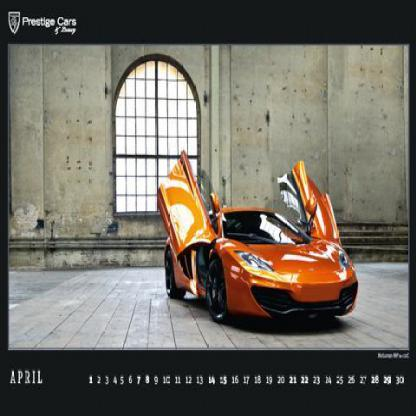Vehicle: (156, 150, 367, 327)
